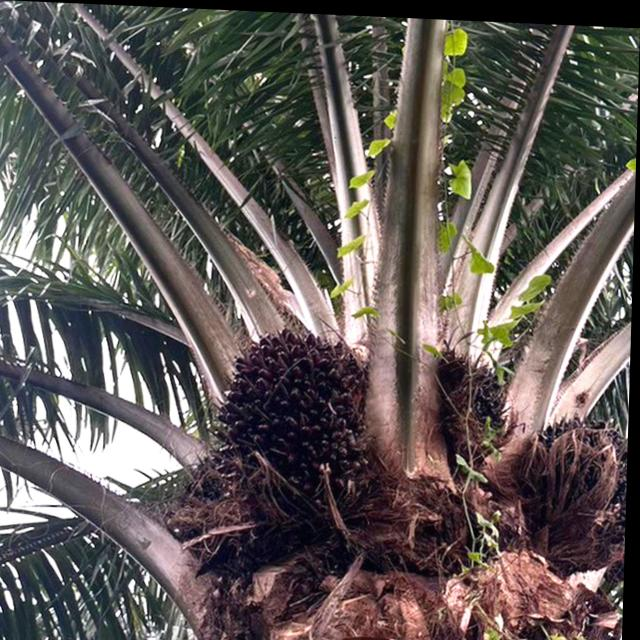ripe: (194, 310, 391, 488)
